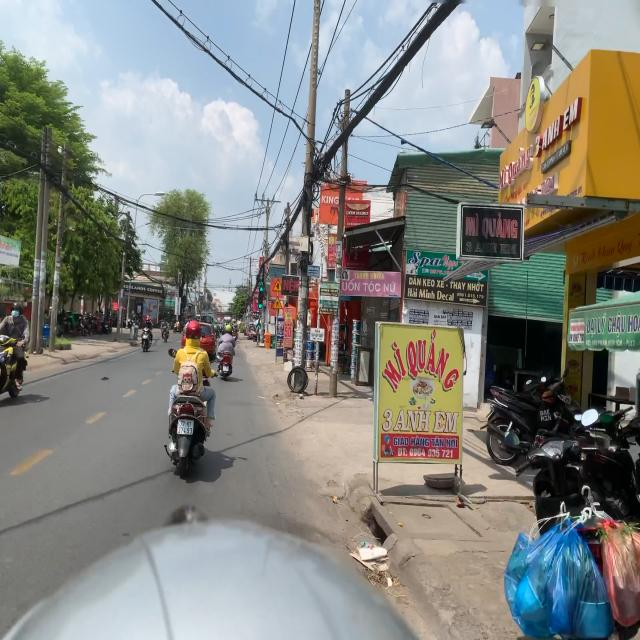Giao voi duong khong uu tien: (270, 277, 282, 296)
Nguoi di bo cat ngang: (271, 296, 283, 310)
